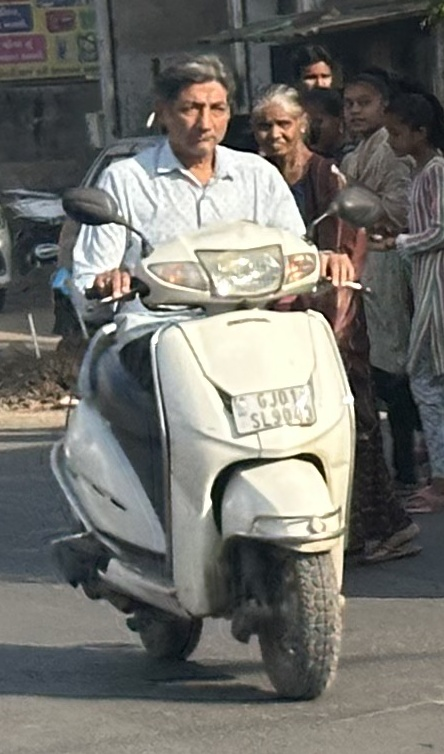BikeWithRider: (38, 45, 386, 709)
NoHelmet: (144, 44, 242, 165)
